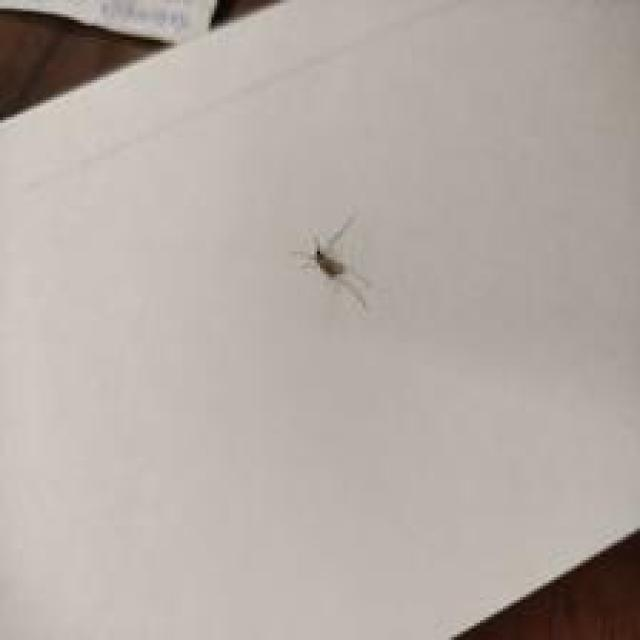Culex: (292, 213, 372, 313)
